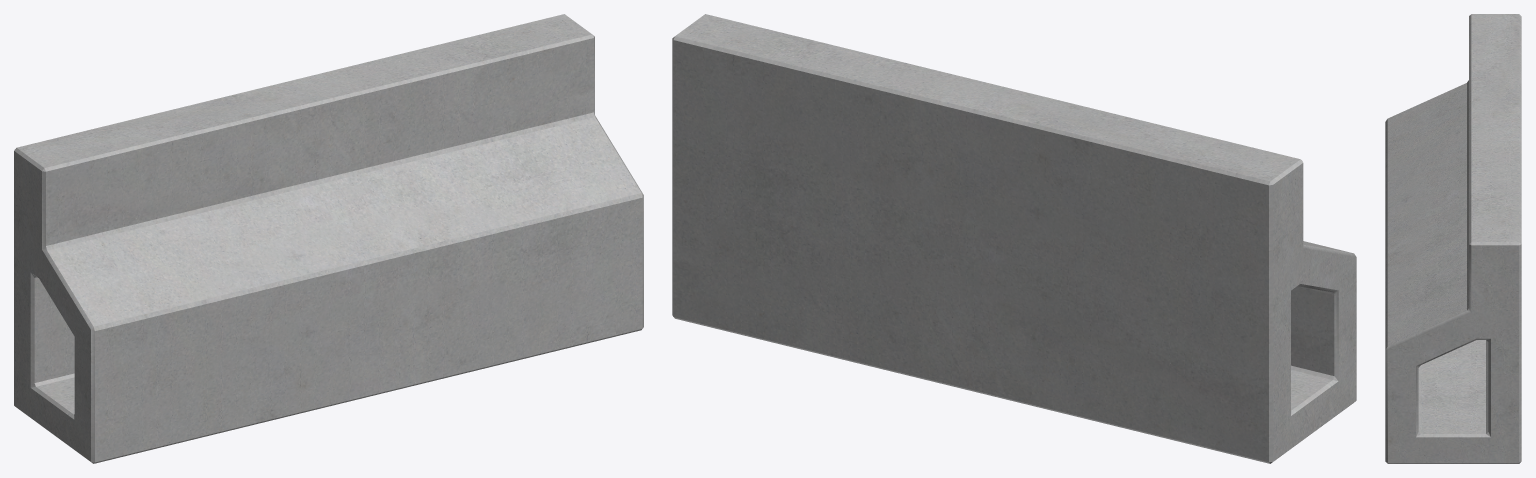
The model's file is Fence7.fbx.
The picture shows the model from 3 angles, left to right: view 1: azimuth 30°, elevation 25°; view 2: azimuth 150°, elevation 25°; view 3: azimuth 270°, elevation 25°; orthographic projection. The views are drawn at different scales.
Visible parts, largest first — view 1: Fence7; view 2: Fence7; view 3: Fence7.
Part boxes in pixels (box(x1,y1,x2,y2)): Fence7: box(14, 14, 643, 463); Fence7: box(672, 14, 1356, 463); Fence7: box(1385, 14, 1521, 463).
Bounding box in the file's own units: 453 × 204 × 113.
1 material, 1 textured.
